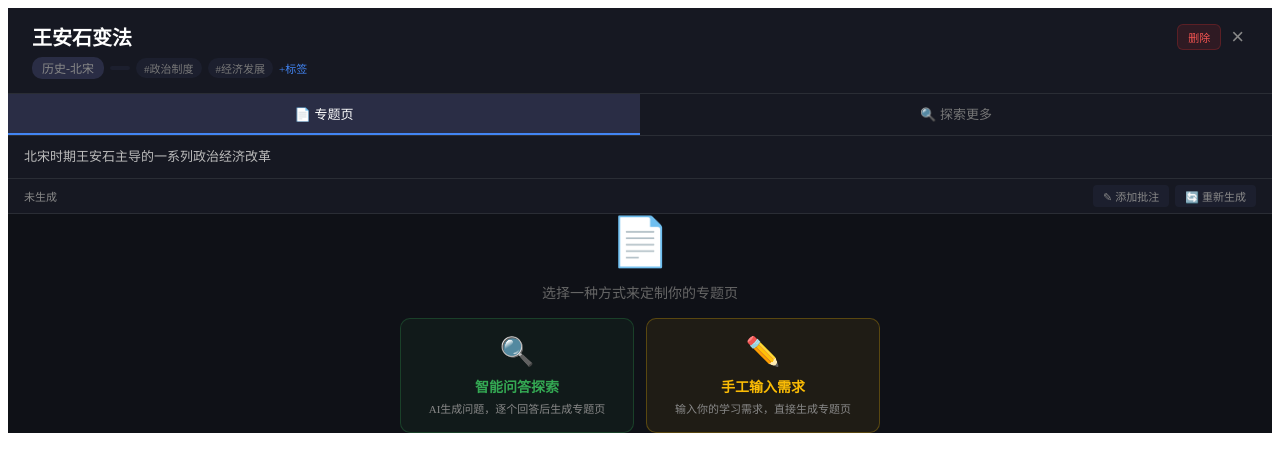
Test: EntryDetail Component › F15: Empty State Learning Paths › clicking explore choice switches to explore tab
What coordinates should you click on to do the following:
click the text "智能问答探索"
I would click on:
 (517, 388)
Its box is [475,380,559,395].
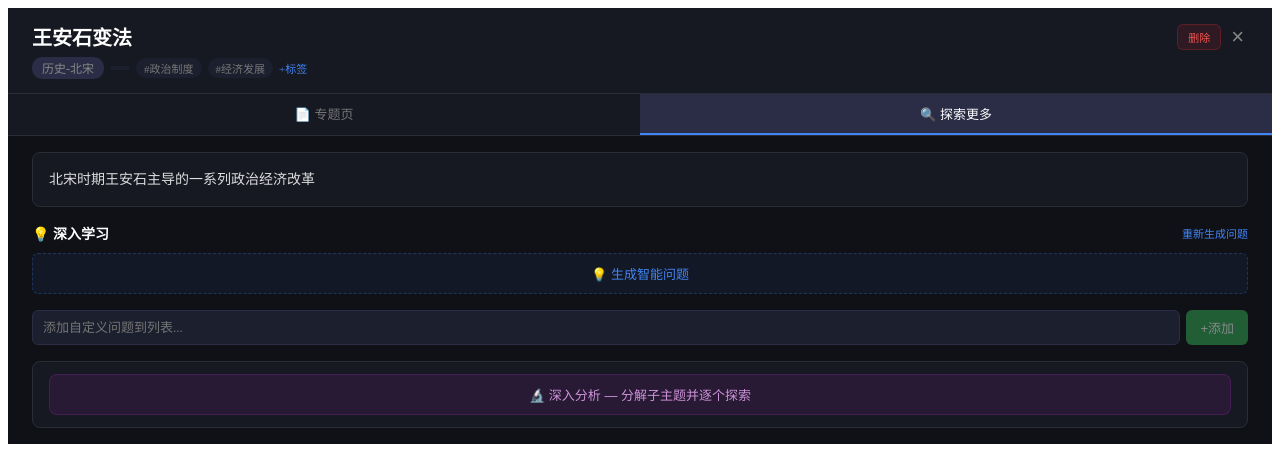
Result: the text "💡 深入学习" is shown at [32,223,109,243]
